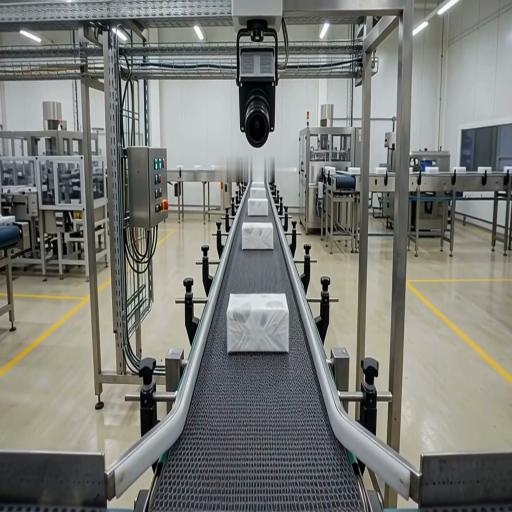good: (227, 294, 290, 354), (242, 223, 273, 249), (248, 199, 269, 217), (251, 187, 266, 198), (252, 182, 265, 188)
